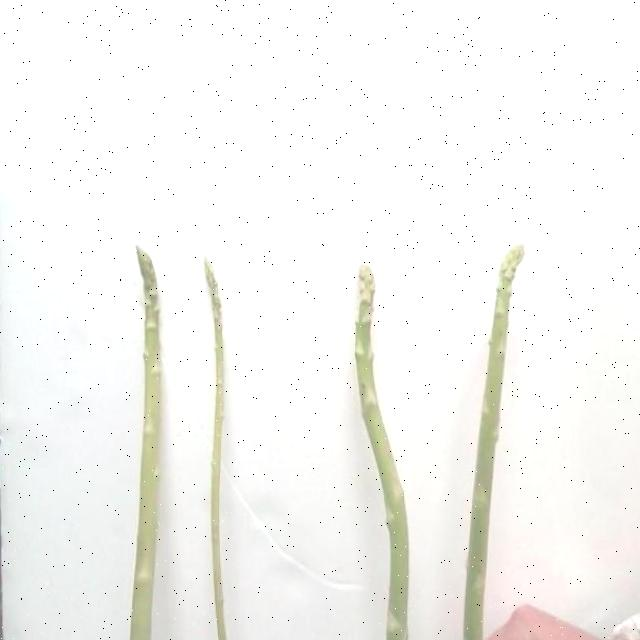aspargus: (463, 247, 526, 640), (354, 266, 411, 640), (125, 248, 164, 640), (202, 258, 232, 640)
